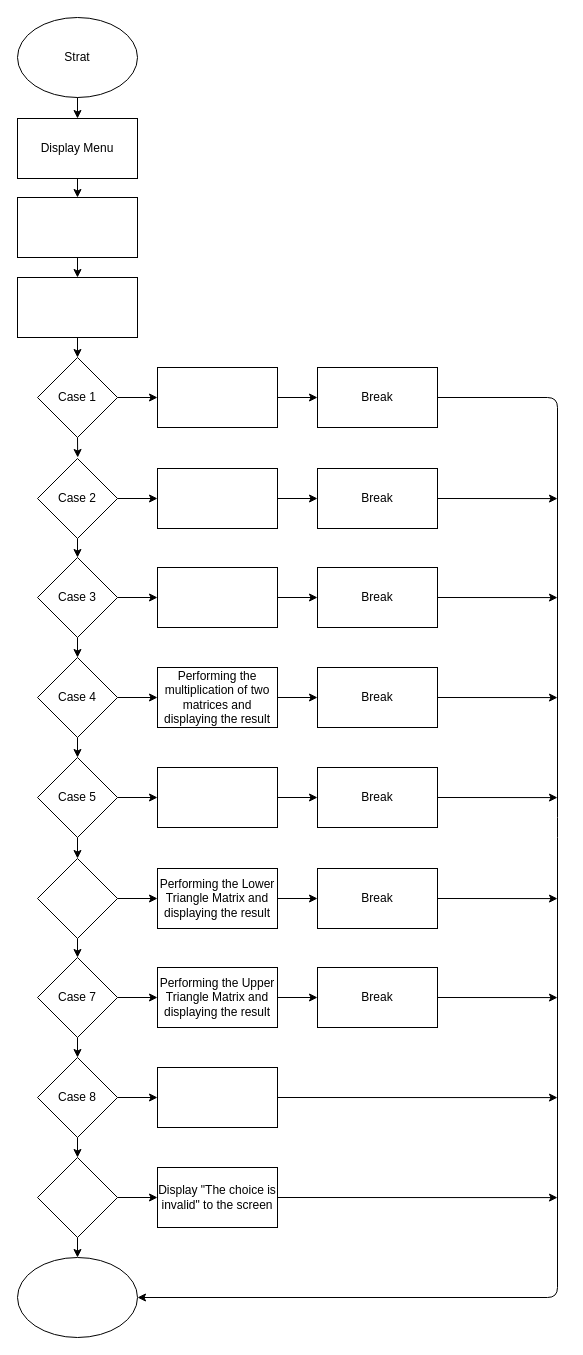
This 583x1355 diagram has some shape labels left out. Each missing label, with the centre of its shape:
Case 6: the point at 77,898
Create matrices with the requesting user input: the point at 217,397
Default: the point at 77,1197
Display Matrices: the point at 217,498
End: the point at 77,1297
Exit the program: the point at 217,1097
Performing the addition of two matrices and displaying the result: the point at 217,597
Performing the Diagonal Matrix and displaying the result: the point at 217,797
Requesting User Input: the point at 77,227
Switch (Conditioinal Statement): the point at 77,307
